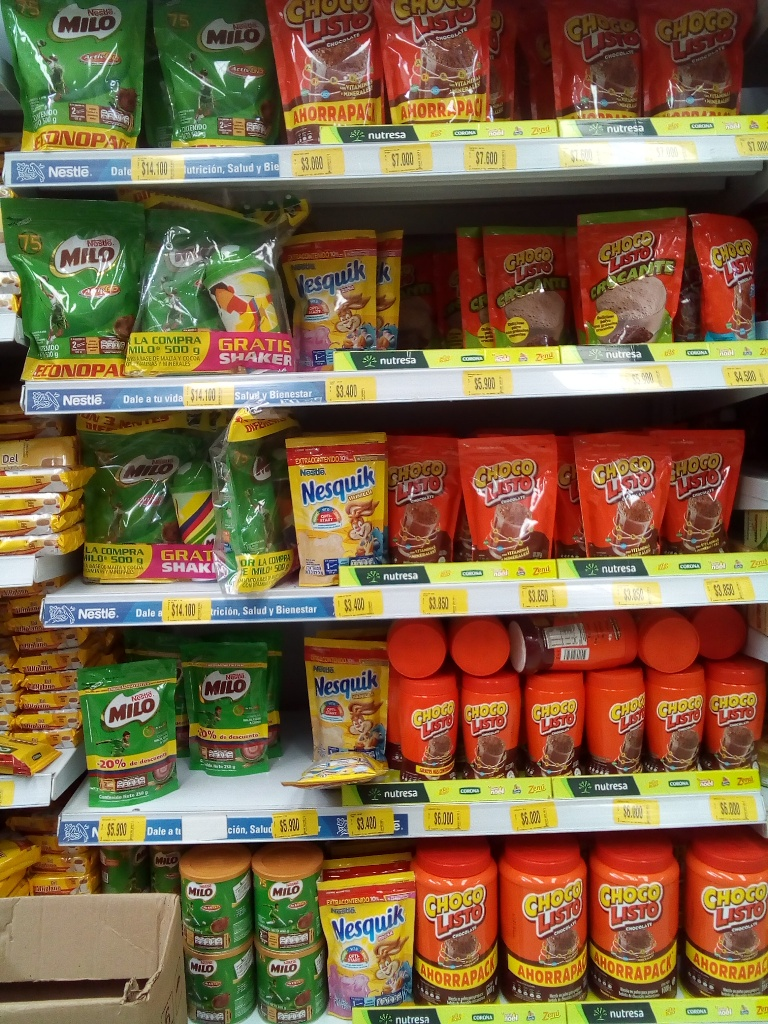COL0170102DYP25000: (485, 229, 570, 347)
COL0170103DYP20000: (394, 433, 462, 570)
COL0170103DYP40000: (273, 2, 387, 143)
COL0170103TRR00100: (415, 846, 500, 1006)
COL0170103TRR30000: (408, 679, 456, 777)
COL0170104DYP20000: (690, 214, 759, 344)
COL0170203DYP25000: (76, 669, 182, 810)
COL0170203DYP50000: (2, 1, 142, 156)
COL0170203LAT40000: (179, 853, 250, 948)
